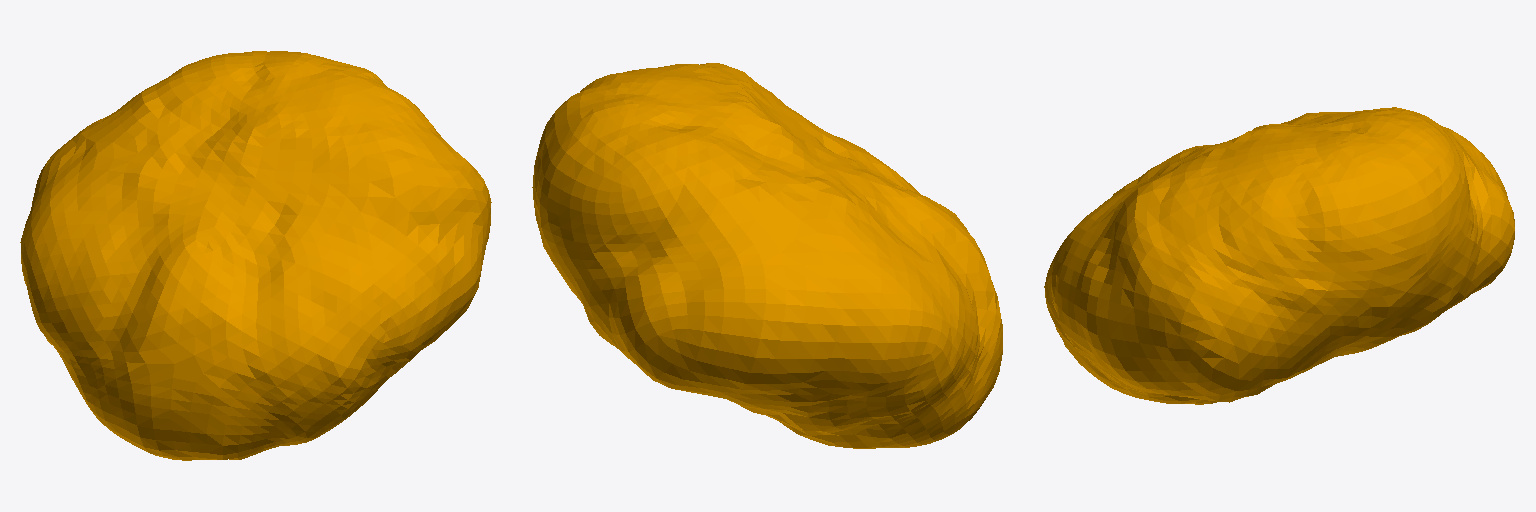
The robot description file, URDF, robot "rock":
<?xml version="1.0" ?>
<robot name="rock">
  <link name="rock">
    <inertial>
      <mass value="0.270"/>
      <origin rpy="0 0 0" xyz="0 0 0"/>
      <inertia ixx="0.000270" ixy="0" ixz="0" iyy="0.000270" iyz="0" izz="0.000270"/>
    </inertial>
    <collision name="rock_collision">
      <origin rpy="0 0 0" xyz="0 0 0"/>
      <geometry>
        <mesh filename="package://rocks/visual/93.dae" scale="1 1 1"/>
      </geometry>
    </collision>
    <visual name="rock_visual">
      <origin rpy="0 0 0" xyz="0 0 0"/>
      <geometry>
        <mesh filename="package://rocks/visual/93.dae" scale="1 1 1"/>
      </geometry>
    </visual>
  </link>
</robot>

--- What the picture shows (computed from the rendered views, not written in the file) ---
The picture shows the robot from 3 angles, left to right: view 1: azimuth 30°, elevation 25°; view 2: azimuth 150°, elevation 25°; view 3: azimuth 270°, elevation 25°; orthographic projection.
Robot: rock — 1 links, 0 joints (none); root link rock; default pose: all joints at 0.
Visible links, largest first — view 1: rock; view 2: rock; view 3: rock.
Boxes of the visible links, x1,y1,x2,y2 form: rock: (20, 51, 491, 460); rock: (532, 63, 1002, 448); rock: (1044, 107, 1514, 404).
Bounding box of the posed robot: 0.1 × 0.098 × 0.073 m (x, y, z).
Meshes: 1 distinct files referenced, 1 mesh visuals loaded (1 Collada DAE).